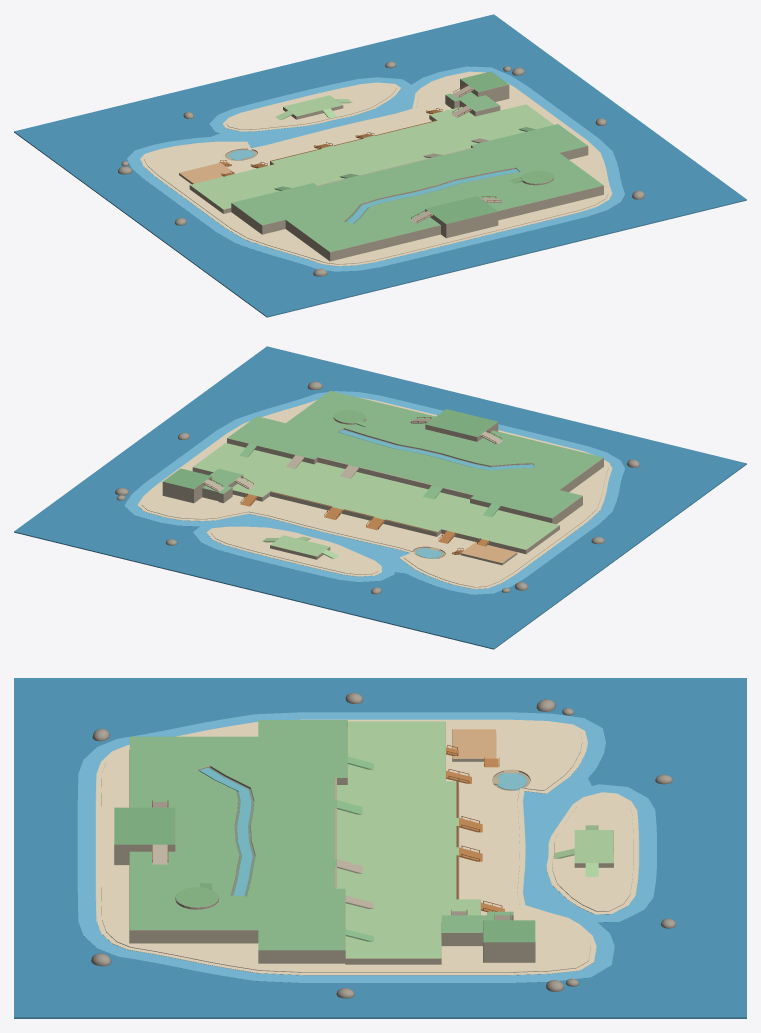
3 renders of one model, top to bottom at view 1: azimuth 30°, elevation 25°; view 2: azimuth 150°, elevation 25°; view 3: azimuth 270°, elevation 25°, orthographic. The views are drawn at different scales.
Visible parts, largest first — view 1: Crescent_Bay_Sea_4x, Walkable_Terrain_4x, Beach_Foreshore_Rim, Firefly_Creek_Water; view 2: Crescent_Bay_Sea_4x, Walkable_Terrain_4x, Beach_Foreshore_Rim, Firefly_Creek_Water; view 3: Crescent_Bay_Sea_4x, Walkable_Terrain_4x, Beach_Foreshore_Rim, Firefly_Creek_Water.
Part boxes in pixels (x1=…): Crescent_Bay_Sea_4x: x1=14, y1=14, x2=746, y2=317; Walkable_Terrain_4x: x1=144, y1=71, x2=608, y2=264; Beach_Foreshore_Rim: x1=140, y1=71, x2=612, y2=266; Firefly_Creek_Water: x1=346, y1=169, x2=519, y2=223; Crescent_Bay_Sea_4x: x1=14, y1=346, x2=746, y2=649; Walkable_Terrain_4x: x1=141, y1=390, x2=608, y2=587; Beach_Foreshore_Rim: x1=138, y1=397, x2=612, y2=589; Firefly_Creek_Water: x1=339, y1=429, x2=534, y2=470; Crescent_Bay_Sea_4x: x1=14, y1=678, x2=746, y2=1018; Walkable_Terrain_4x: x1=101, y1=720, x2=633, y2=972; Beach_Foreshore_Rim: x1=96, y1=719, x2=638, y2=975; Firefly_Creek_Water: x1=199, y1=767, x2=252, y2=896.
Size of the model in its own units: 184 by 7.33 by 168.
